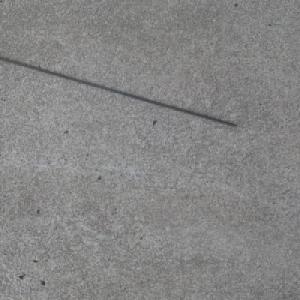LuggagePart: (0, 55, 238, 128)
